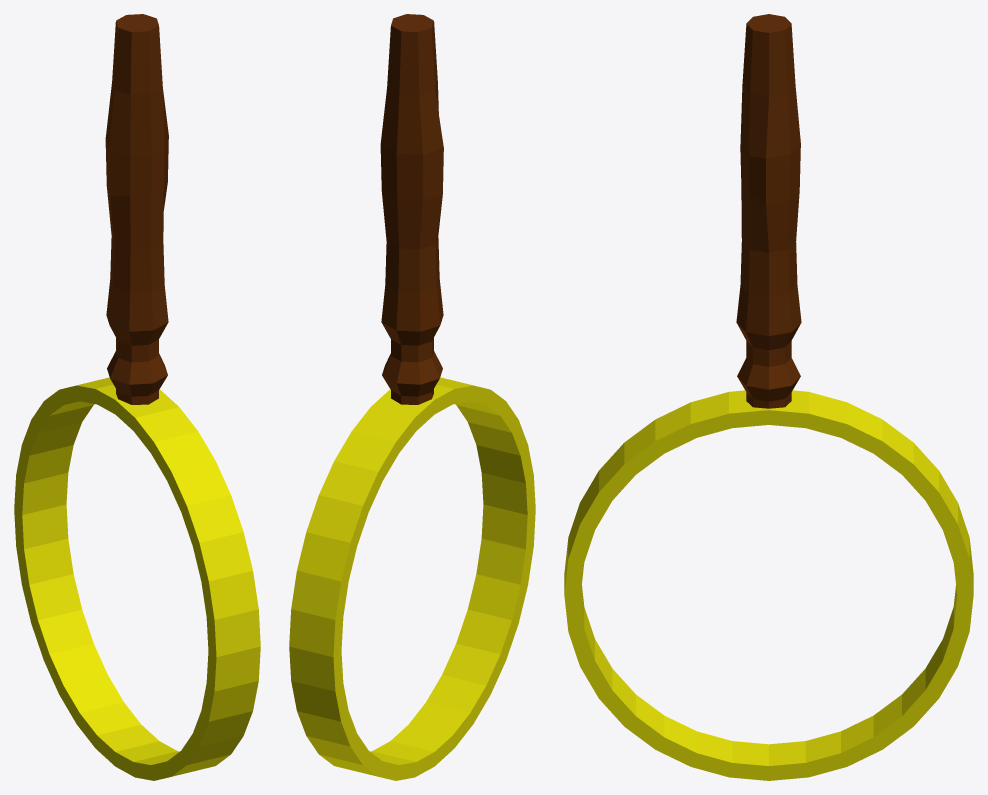
The model's file is за(лупа).fbx.
3 renders of one model, left to right at view 1: azimuth 30°, elevation 25°; view 2: azimuth 150°, elevation 25°; view 3: azimuth 270°, elevation 25°, orthographic.
Visible parts, largest first — view 1: ручка; view 2: ручка; view 3: ручка.
Part boxes in pixels (<box>): ручка: <box>14,14,260,780</box>; ручка: <box>289,14,535,780</box>; ручка: <box>564,14,973,780</box>.
Size of the model in its own units: 3.74 by 44.05 by 21.89.
